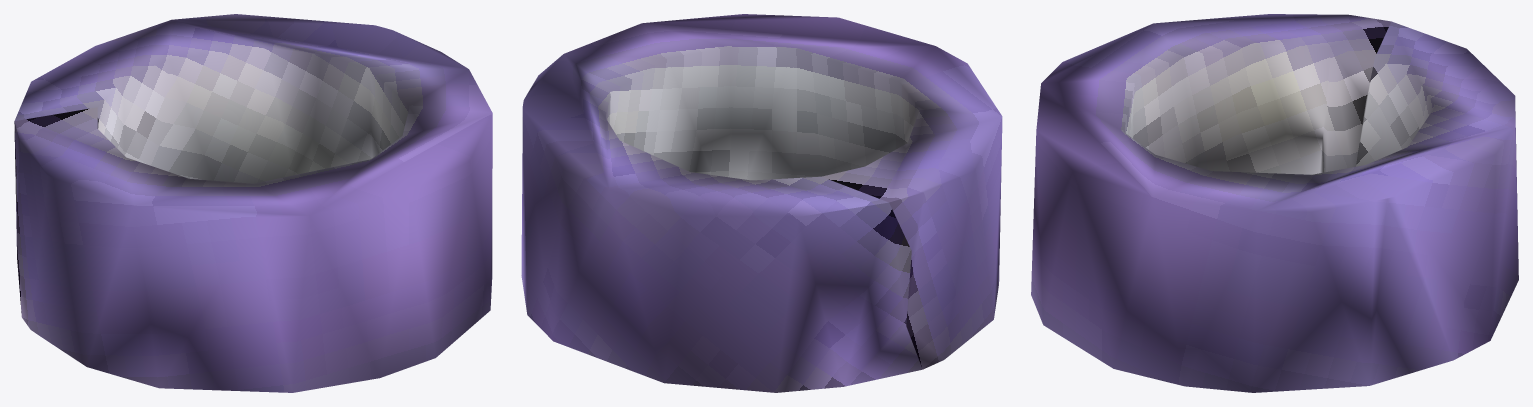
File: Shurtape_Tape_Purple_CP28-low.glb
3 views of the same model, side by side, from view 1: azimuth 30°, elevation 25°; view 2: azimuth 150°, elevation 25°; view 3: azimuth 270°, elevation 25° (orthographic). The views are drawn at different scales.
Visible parts, largest first — view 1: Shurtape_Tape_Purple_CP28; view 2: Shurtape_Tape_Purple_CP28; view 3: Shurtape_Tape_Purple_CP28.
Part boxes in pixels (x1=…): Shurtape_Tape_Purple_CP28: x1=14, y1=14, x2=492, y2=392; Shurtape_Tape_Purple_CP28: x1=521, y1=14, x2=1002, y2=392; Shurtape_Tape_Purple_CP28: x1=1031, y1=14, x2=1518, y2=392.
Bounding box in the file's own units: 0.1177 × 0.05 × 0.1164.
1 material, 1 textured.
